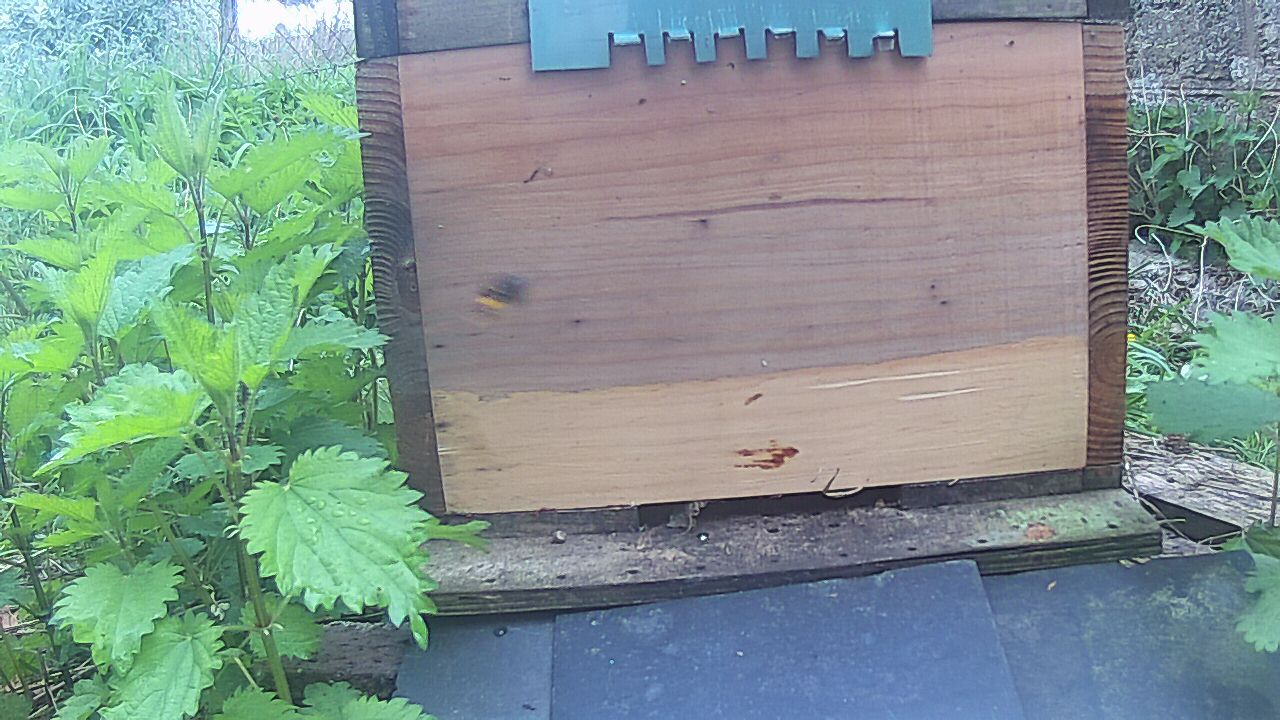bee: (752, 445, 784, 468)
hornet: (468, 278, 533, 309)
